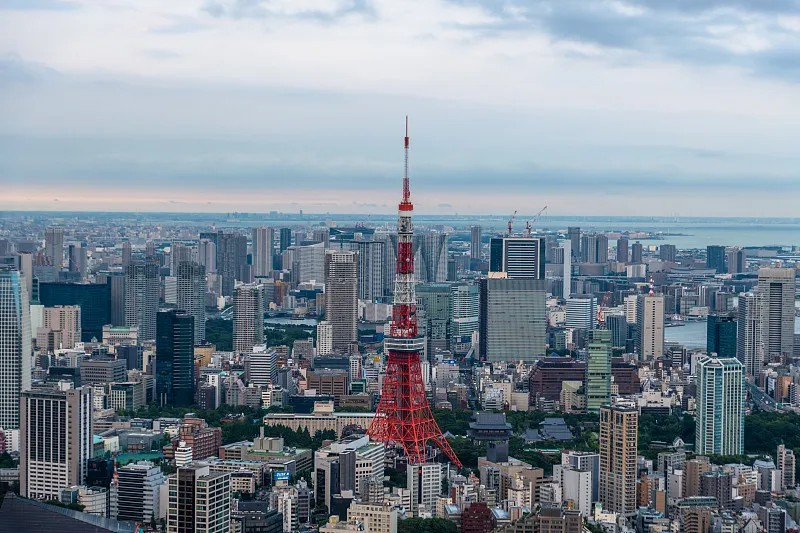Tokyo: (364, 116, 462, 469)
